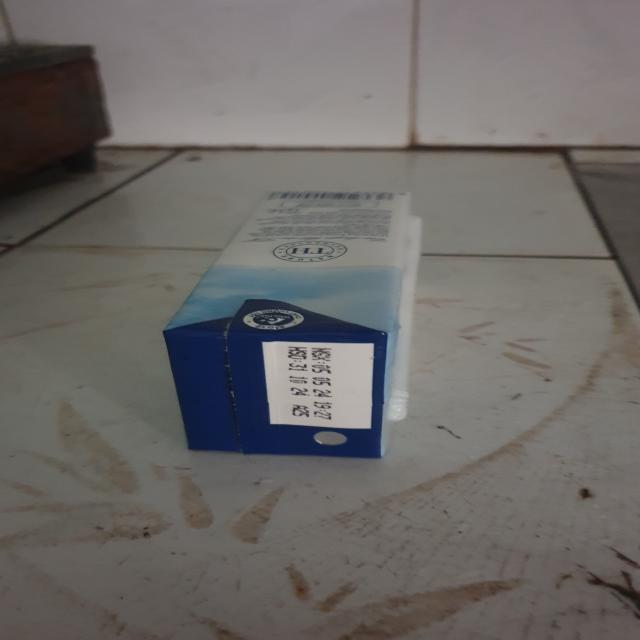TH: (162, 187, 430, 460)
